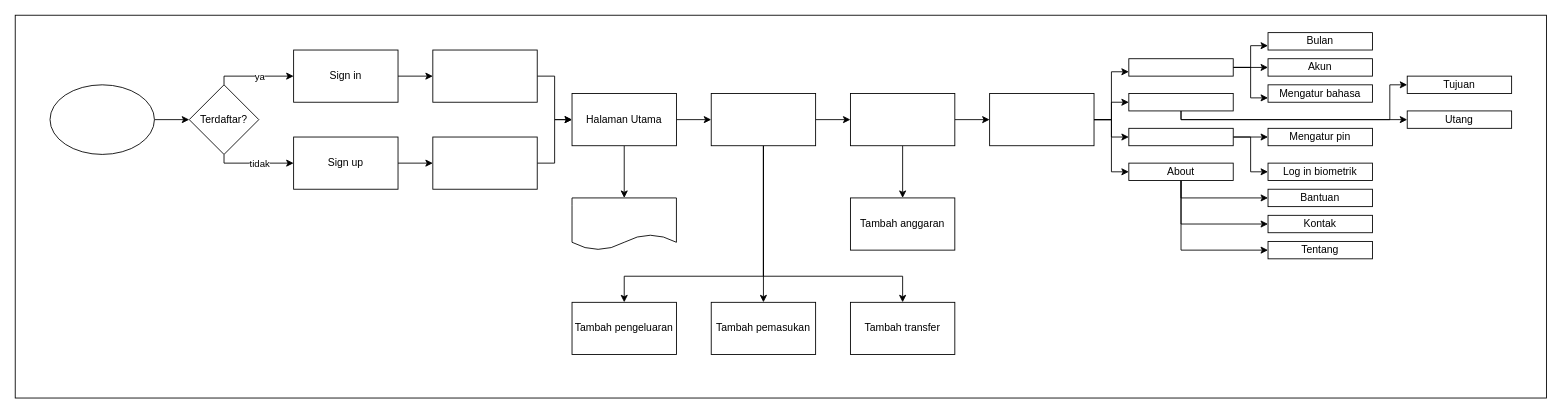
The diagram is 1562 pixels wide and 413 high, and some of its shapes have lost their labels. The box of each missing label's shape, as (x1, y1, x2, y2) in pixels:
Anggaran: (850, 93, 955, 146)
Laporan keuangan: (571, 197, 676, 250)
Menu: (1128, 93, 1233, 111)
Pengeluaran Pemasukan Transfer: (710, 93, 816, 146)
Security: (1128, 127, 1233, 146)
Setting: (1128, 58, 1233, 76)
START: (49, 84, 154, 154)
User: (989, 93, 1094, 146)
Username Email Password Password confirmation: (432, 136, 537, 189)
Username Password: (432, 49, 537, 102)
